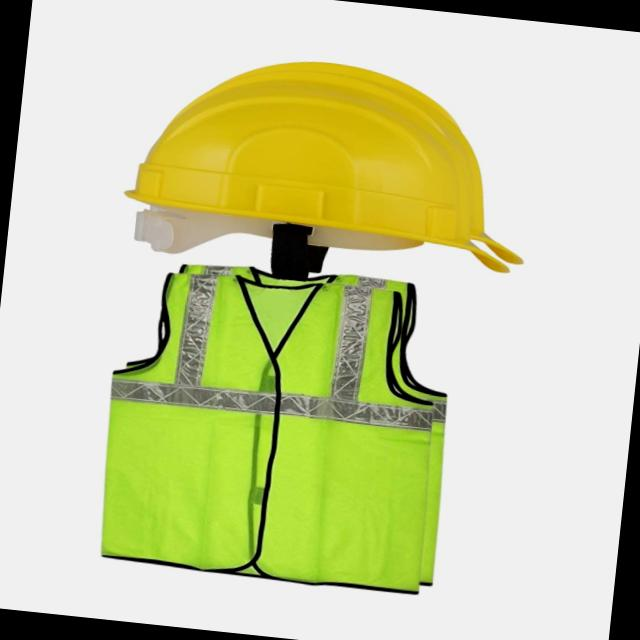helmet: (87, 7, 559, 296)
vest: (56, 232, 473, 611)
